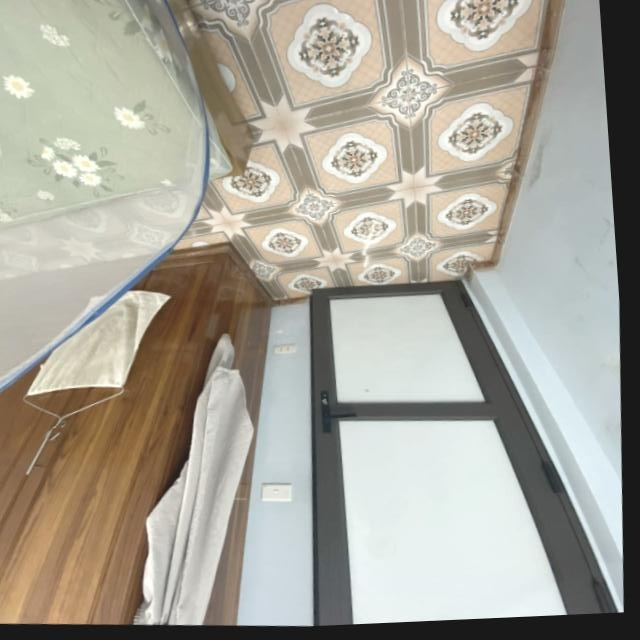outlet: (271, 343, 297, 357)
